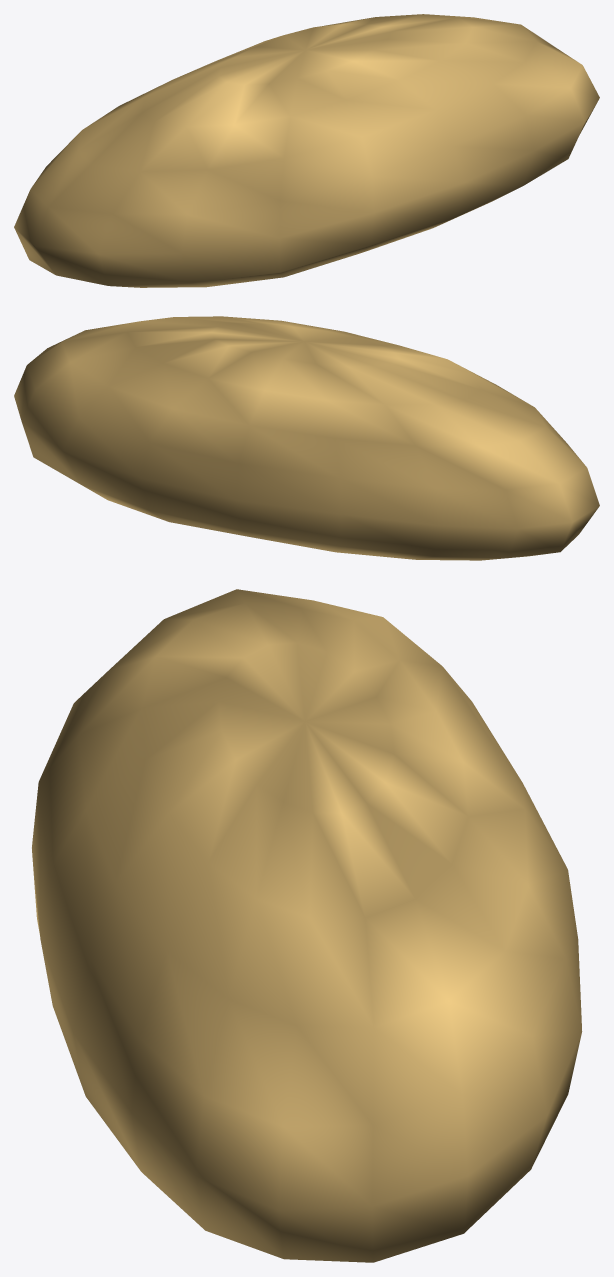
The model's file is fogtail_carp_roe.glb.
The picture shows the model from 3 angles, top to bottom: view 1: azimuth 30°, elevation 25°; view 2: azimuth 150°, elevation 25°; view 3: azimuth 270°, elevation 25°; orthographic projection. The views are drawn at different scales.
Visible parts, largest first — view 1: fogtail_carp_roe; view 2: fogtail_carp_roe; view 3: fogtail_carp_roe.
Part boxes in pixels (left/top/right/bottom): fogtail_carp_roe: left=14, top=14, right=599, bottom=287; fogtail_carp_roe: left=14, top=316, right=599, bottom=560; fogtail_carp_roe: left=32, top=589, right=582, bottom=1262.
Size of the model in its own units: 0.07 by 0.02 by 0.03.
